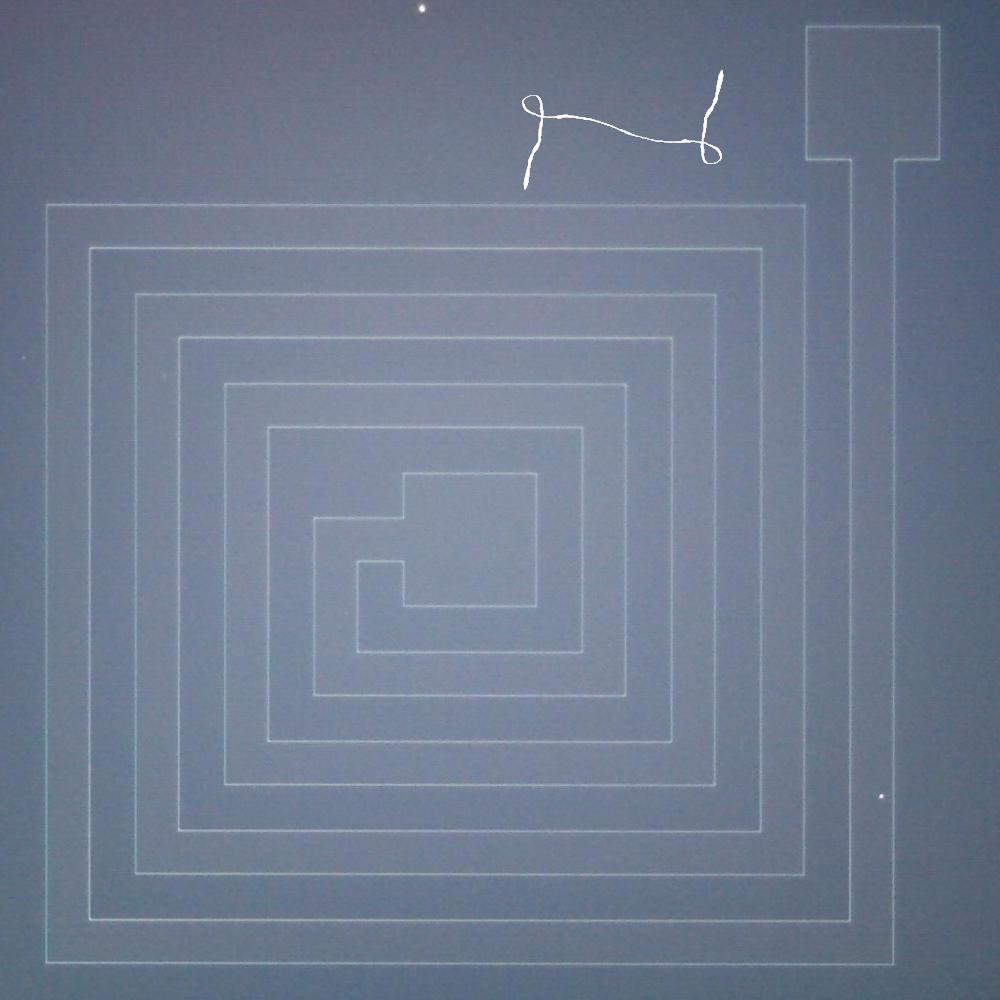dot: (868, 783, 890, 812), (408, 1, 436, 19)
line: (513, 57, 741, 197)
